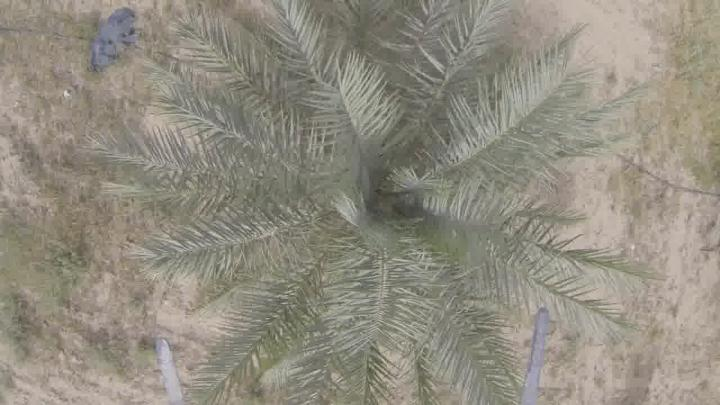Date-Palm-Crown: (238, 73, 500, 331)
